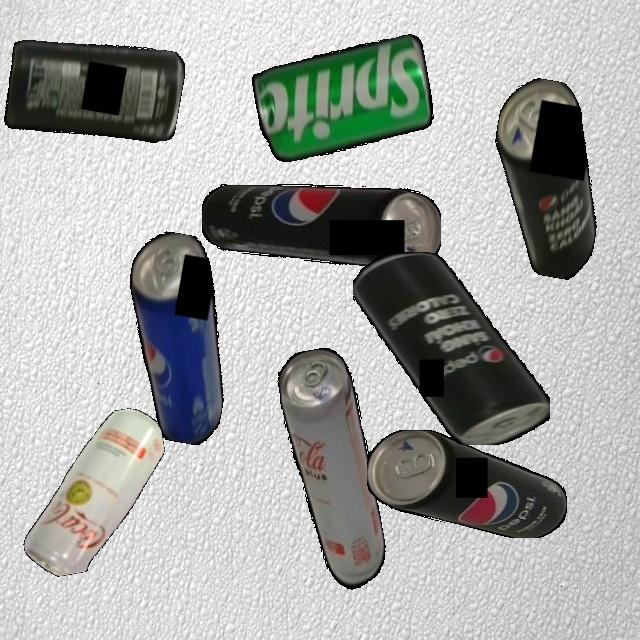debris: (353, 251, 550, 445), (104, 227, 250, 448), (3, 404, 183, 581), (474, 73, 620, 283), (273, 344, 392, 598), (249, 33, 438, 165), (0, 25, 188, 157), (367, 429, 567, 538), (201, 184, 441, 269)
